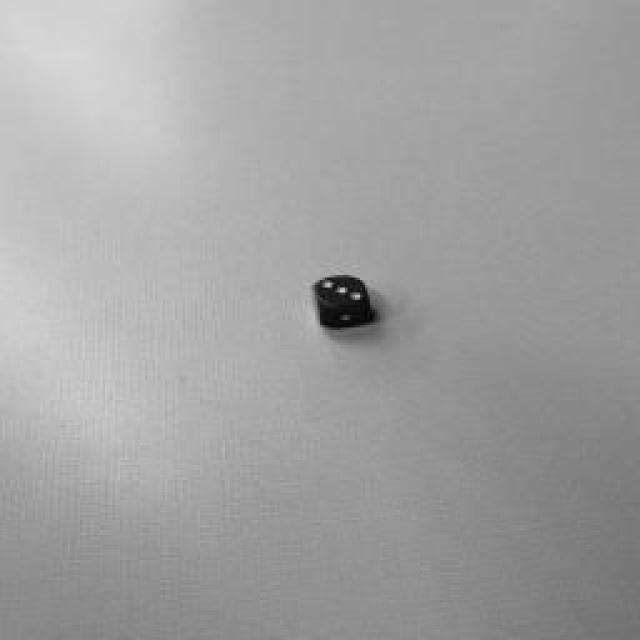dice_3: (315, 276, 367, 306)
